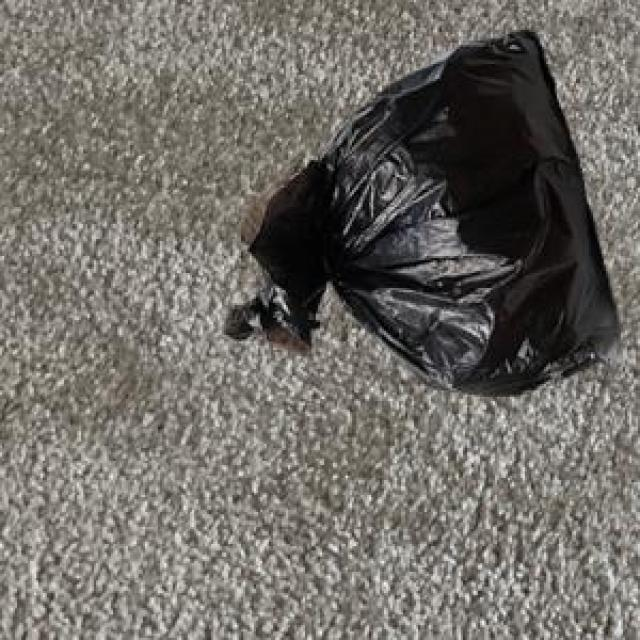Vinyl: (225, 31, 619, 394)
